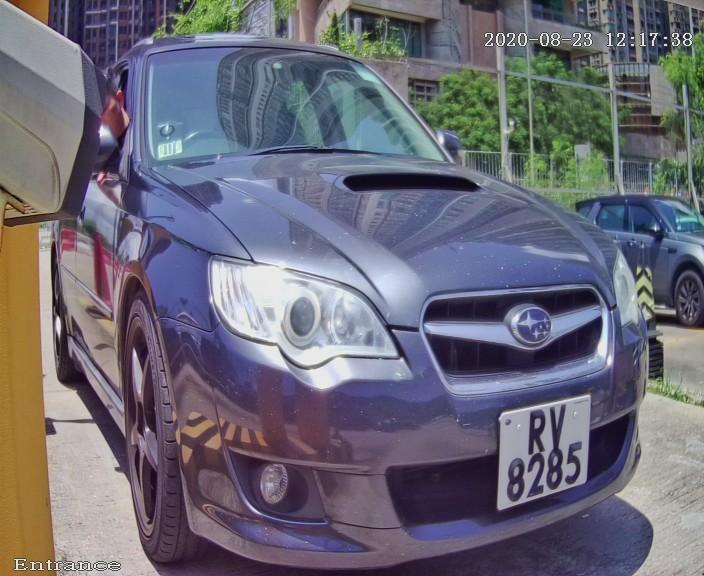Car: (32, 3, 704, 576)
License Plate: (494, 389, 591, 523)
